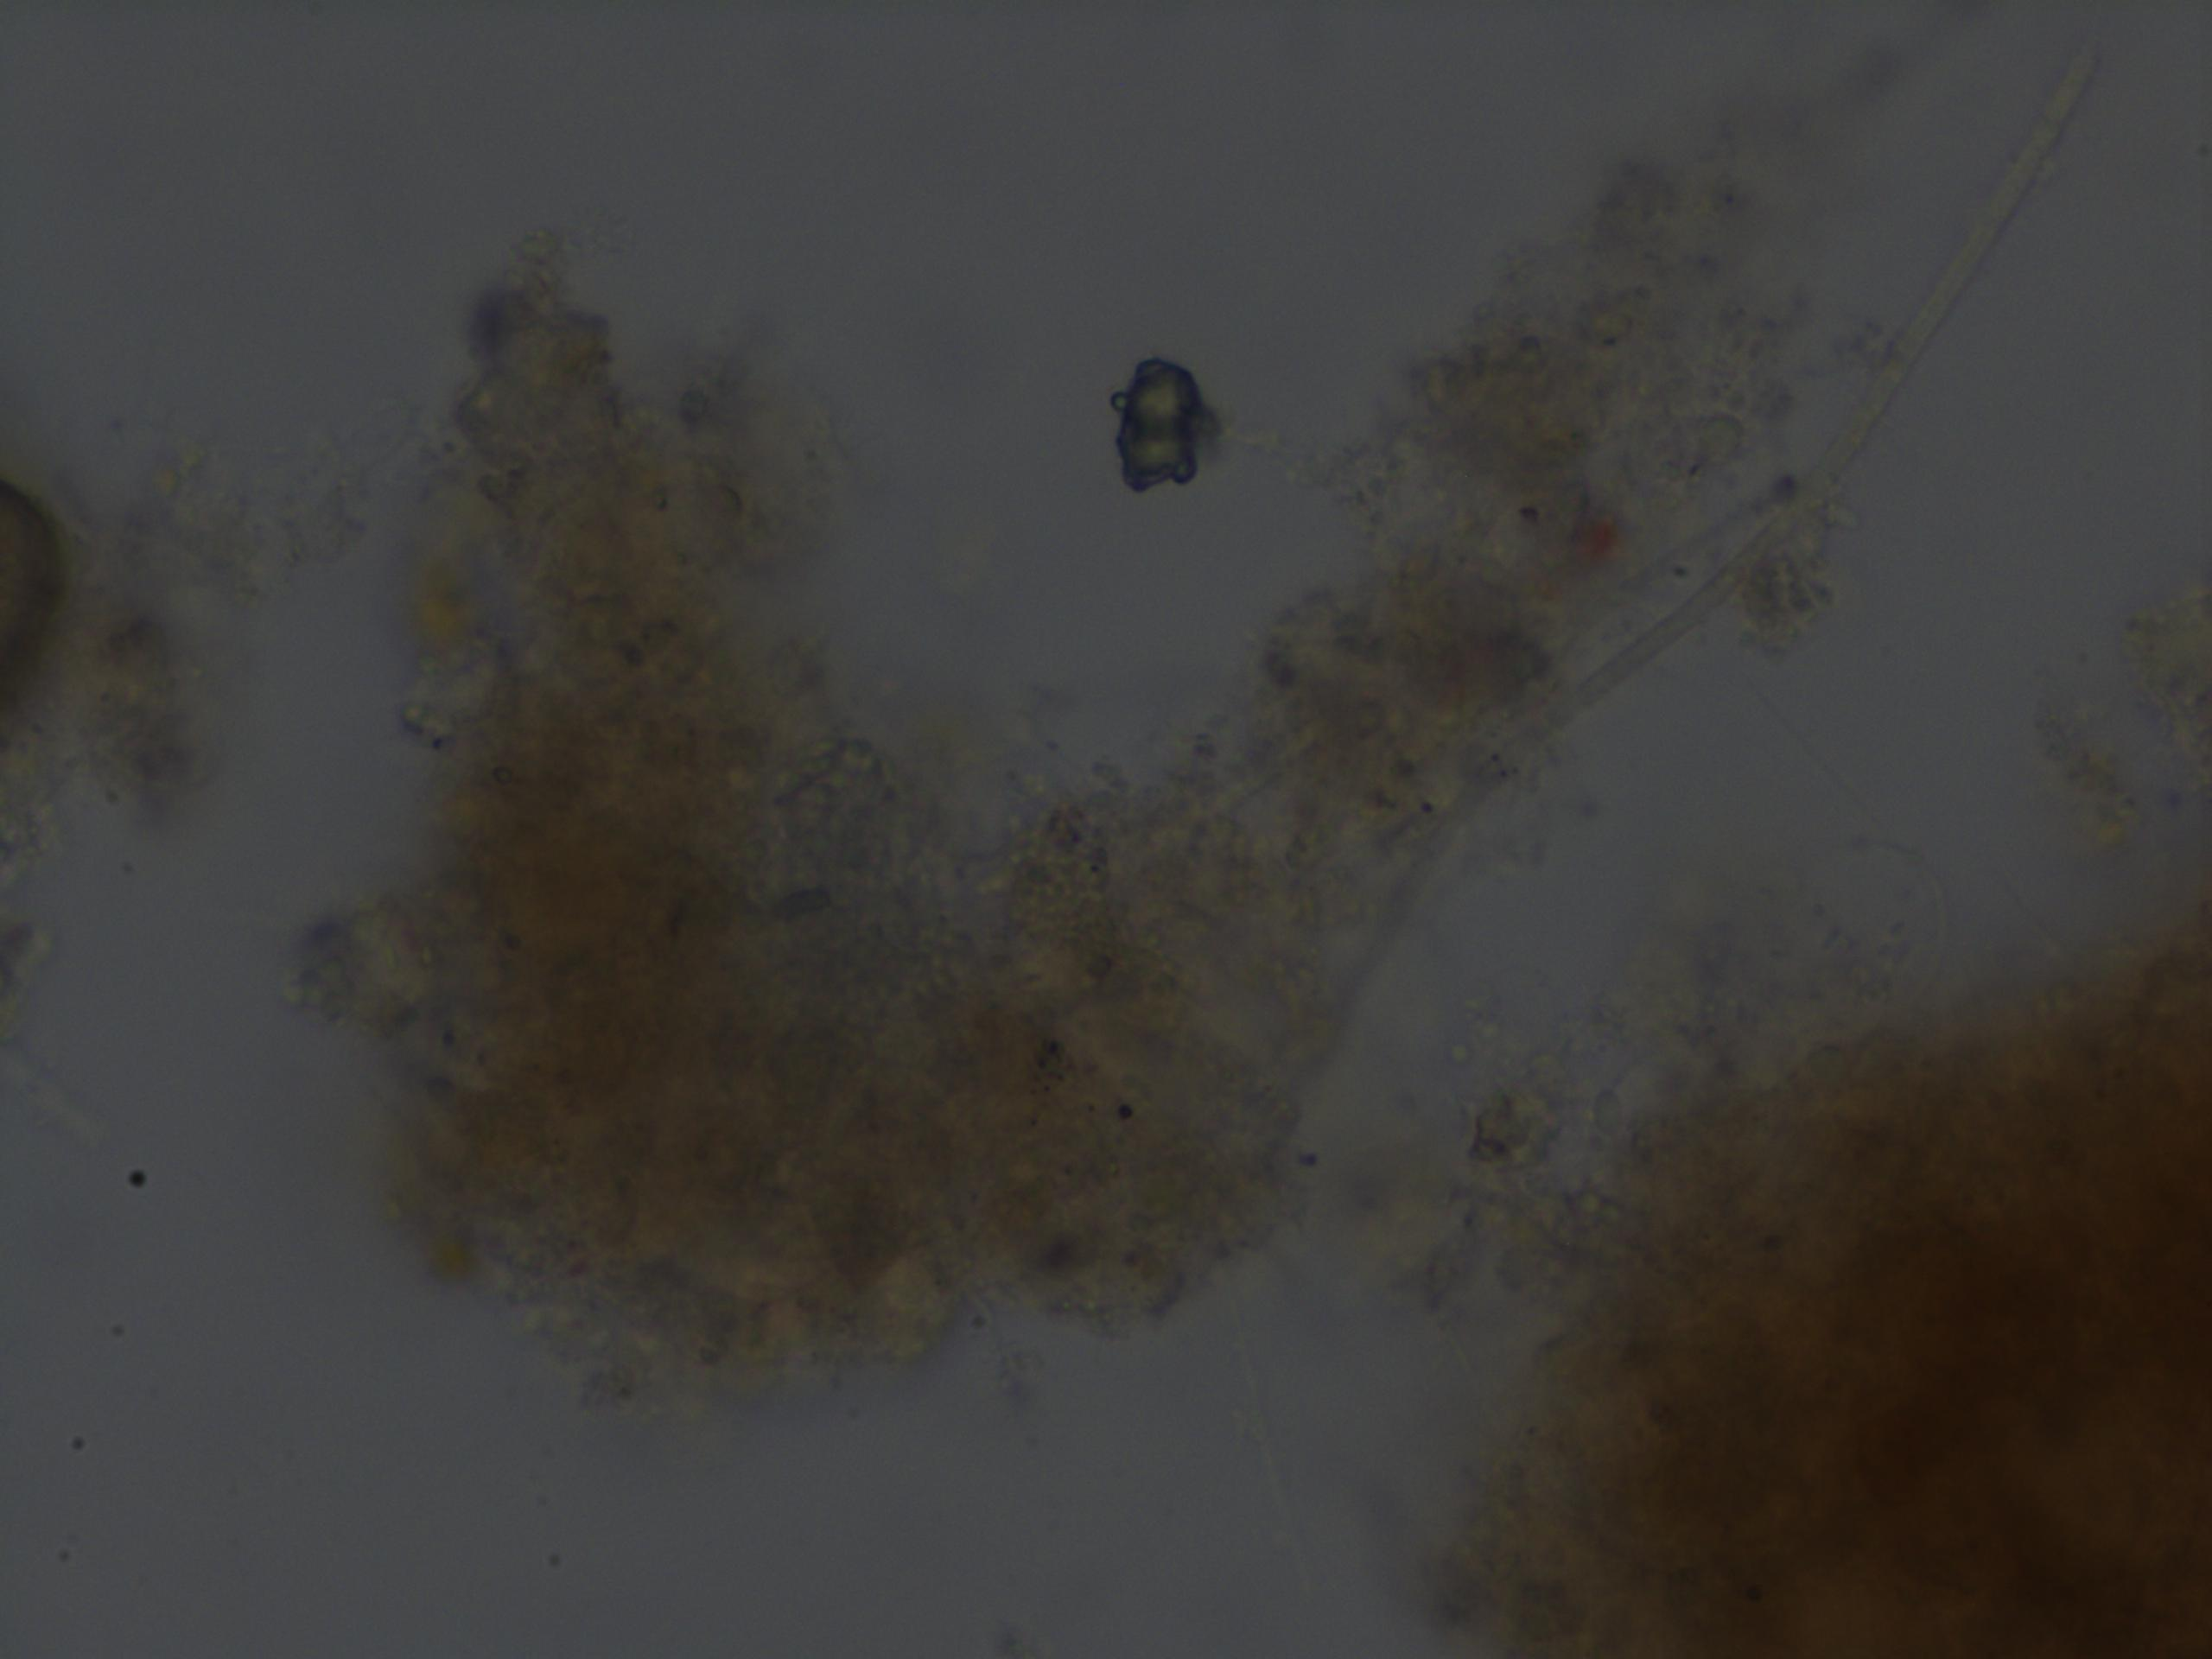filament: (1461, 5, 2142, 819)
